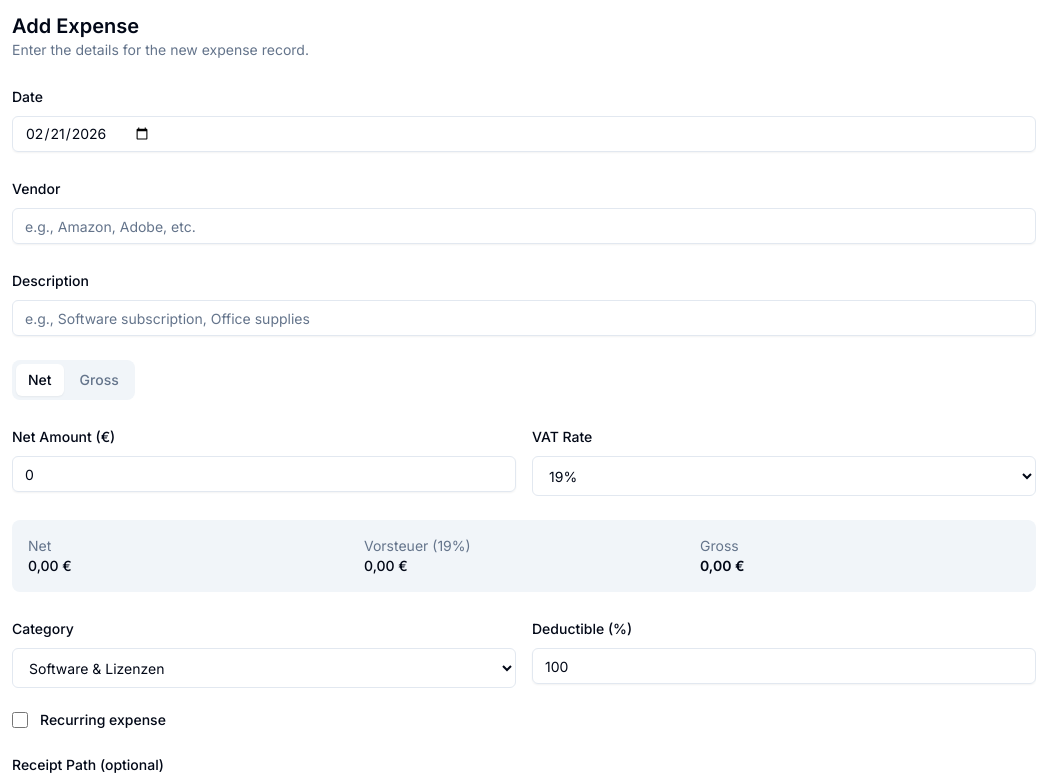
Test: ExpenseForm › net/gross toggle › converts amount when switching from gross to net
The image size is (1048, 780).
# Switch to gross first
Click the radio button with aria-label "gross amount". click: (99, 380)
box: x1=68 y1=364 x2=131 y2=396
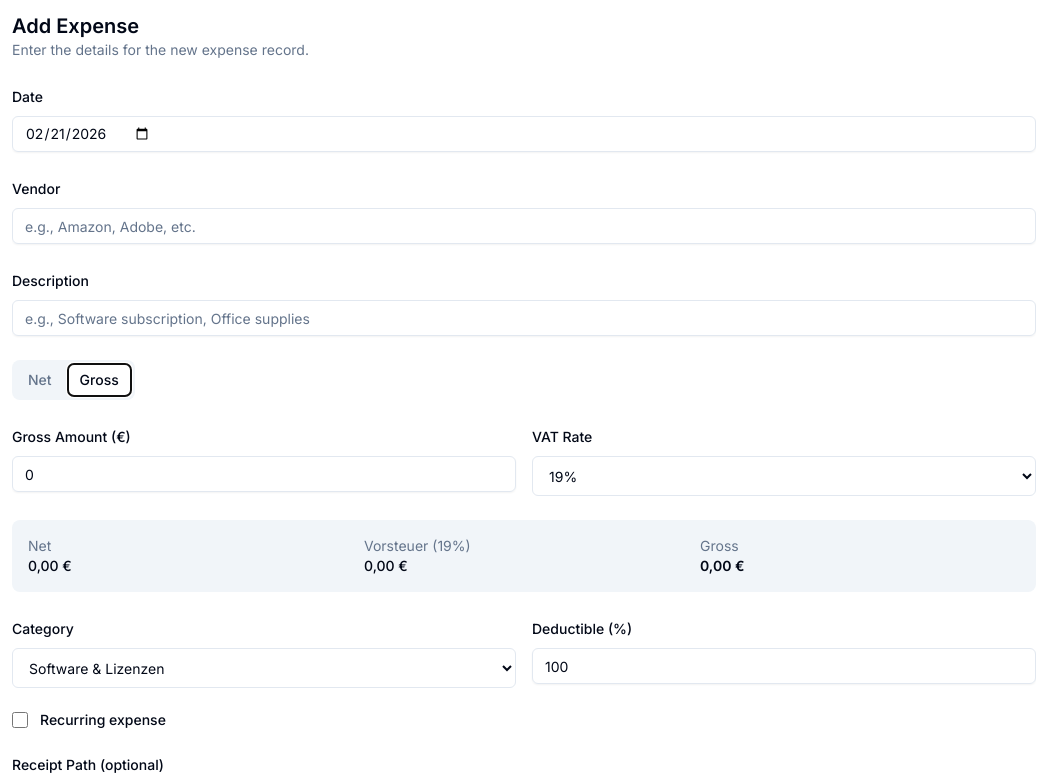
Replace the text in the number field labelled "Gross Amount (€)" with "119". click: (264, 474)
box: x1=12 y1=456 x2=516 y2=492
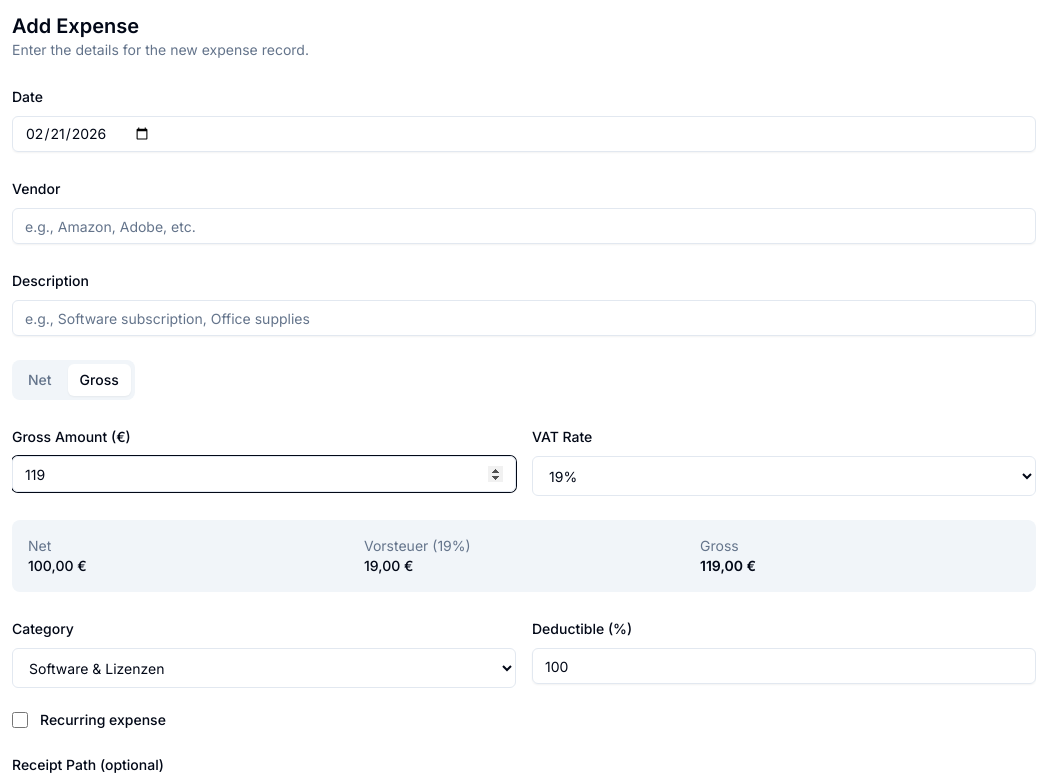
# Switch back to net - should show 100
Click the radio button with aria-label "net amount". click: (40, 380)
box: x1=16 y1=364 x2=64 y2=396
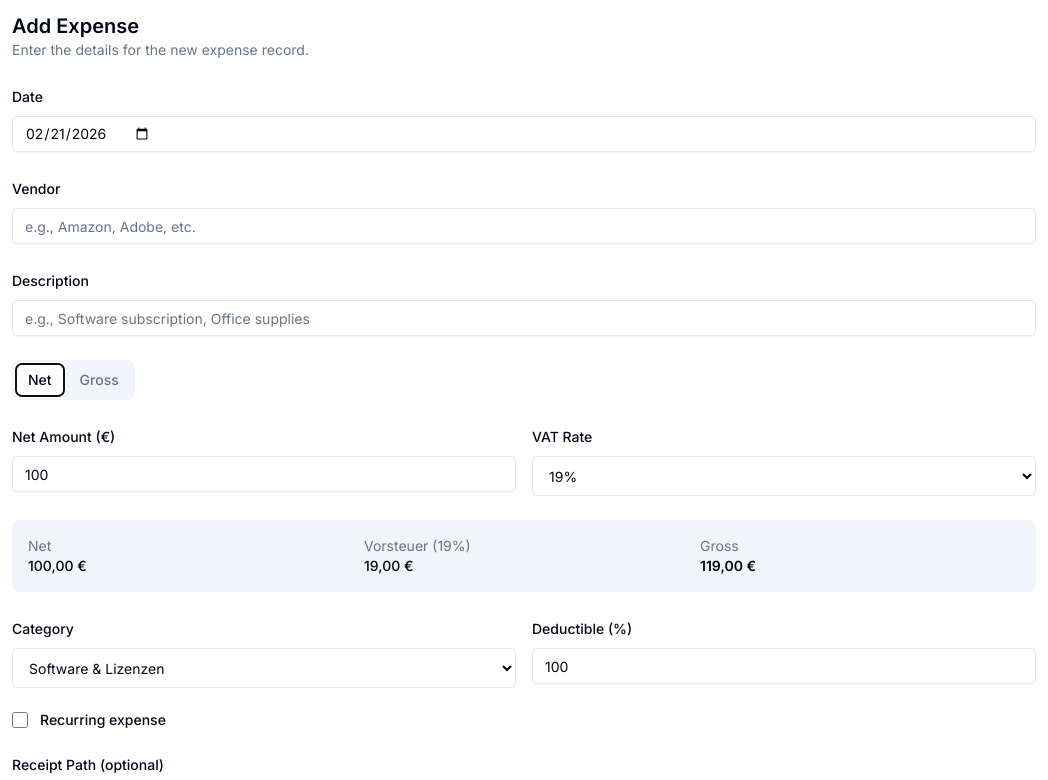
Now the number field labelled "Net Amount (€)" holds "100", box x1=12 y1=456 x2=516 y2=492
